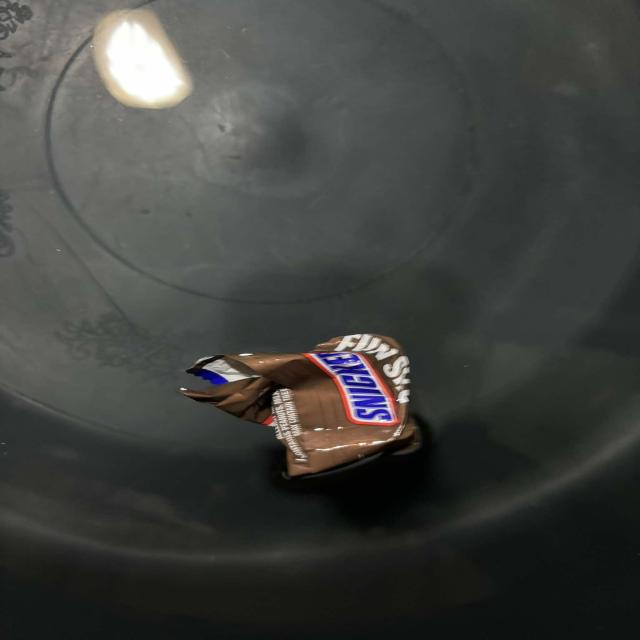Plastic Wrapper: (158, 321, 465, 498)
